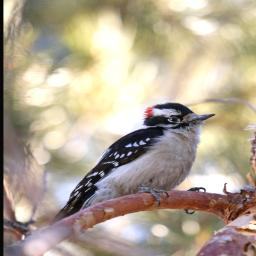Woodpecker: (53, 103, 216, 226)
